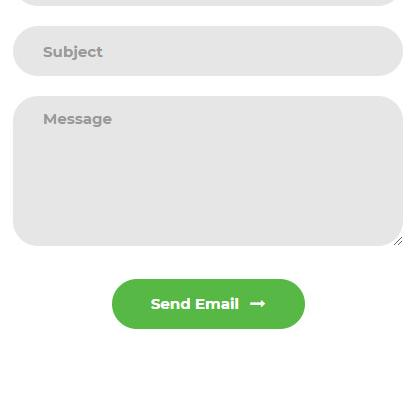button: (110, 275, 304, 332)
field: (9, 93, 408, 249), (12, 25, 403, 79)
